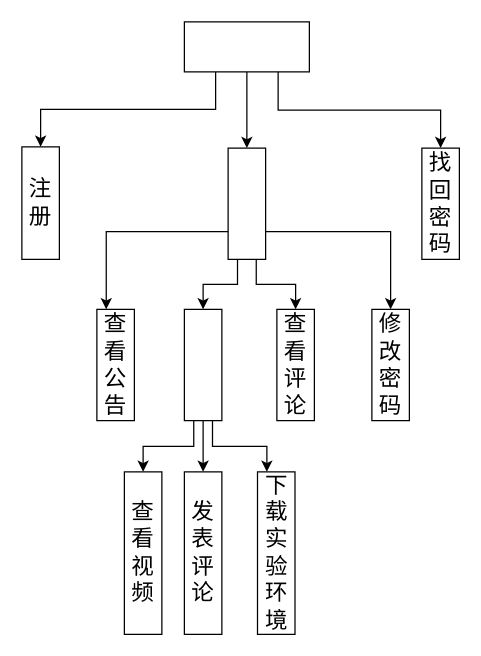
Image size: 481x656. Some labels were removed from this diagram. The shapes that lost their labels are listed below. From the top down, each one's box as (x1, y1, x2, y2) in pixels, then its label:
(183, 21, 309, 72): 学生
(227, 147, 266, 259): 登录
(183, 308, 222, 421): 查看课程
